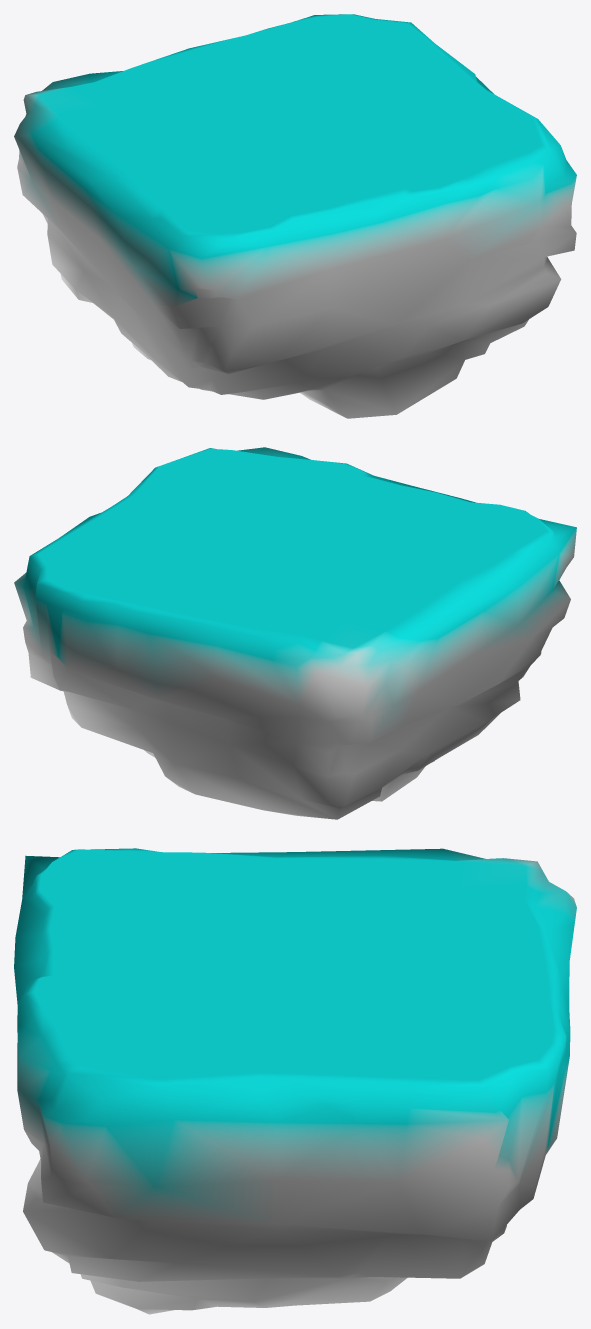
Rendered from Homeworld_Exterior_Common_Rockery_10_Lod0.fbx.
3 views of the same model, one above another, from view 1: azimuth 30°, elevation 25°; view 2: azimuth 150°, elevation 25°; view 3: azimuth 270°, elevation 25° (orthographic). The views are drawn at different scales.
Parts seen in each view (by area): view 1: Homeworld_Exterior_Common_Rockery_10_Lod0; view 2: Homeworld_Exterior_Common_Rockery_10_Lod0; view 3: Homeworld_Exterior_Common_Rockery_10_Lod0.
Part boxes in pixels (bbox=[...]): Homeworld_Exterior_Common_Rockery_10_Lod0: bbox=[14, 14, 576, 418]; Homeworld_Exterior_Common_Rockery_10_Lod0: bbox=[14, 447, 576, 819]; Homeworld_Exterior_Common_Rockery_10_Lod0: bbox=[14, 848, 576, 1314].
Size of what is drawn, in the model's own units: 8.81 by 4.93 by 8.17.
